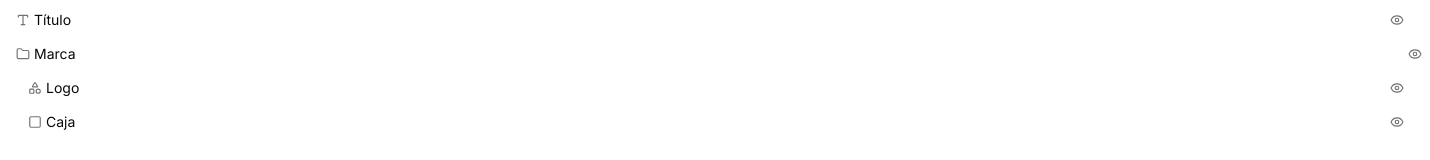
Scenario: PanelCapas › Escape cancela el renombre
The image size is (1430, 160).
Double-click the option "Título": (53, 20) 16,11 -> 1404,28
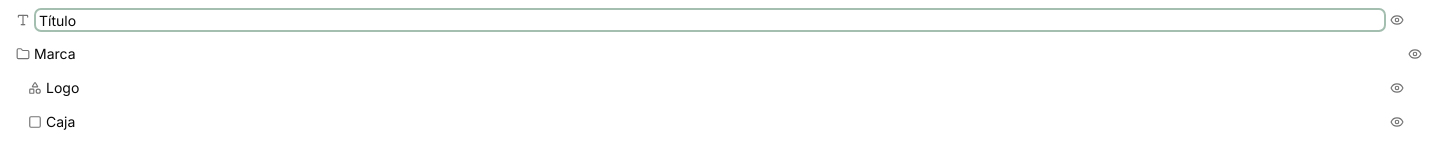
Replace the text in the field named "Nombre de la capa" with "Otro": (710, 20) 34,8 -> 1386,32
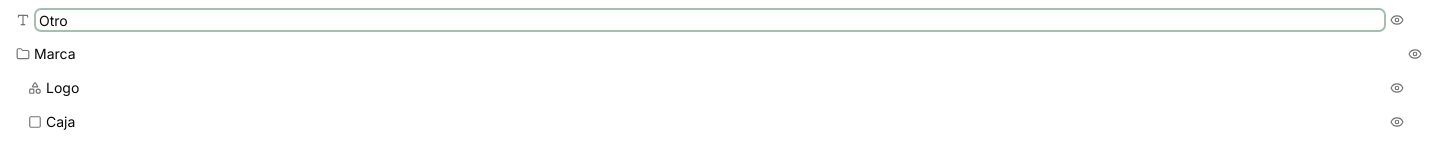
Press Escape in the field named "Nombre de la capa", box 34,8 -> 1386,32
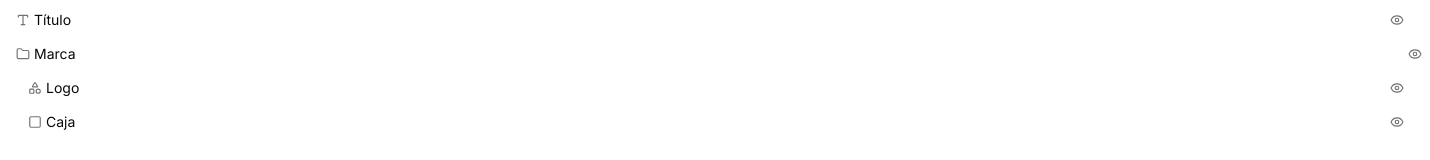
Now the text "Título" is shown, box 34,11 -> 71,28
Now the field is gone
